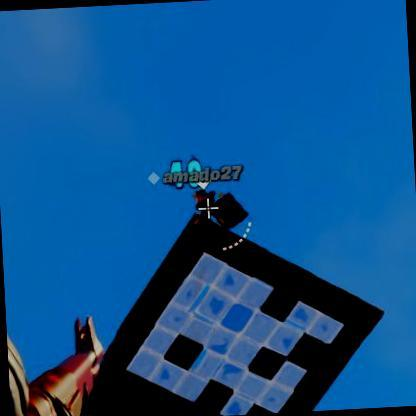person: (187, 177, 221, 226)
